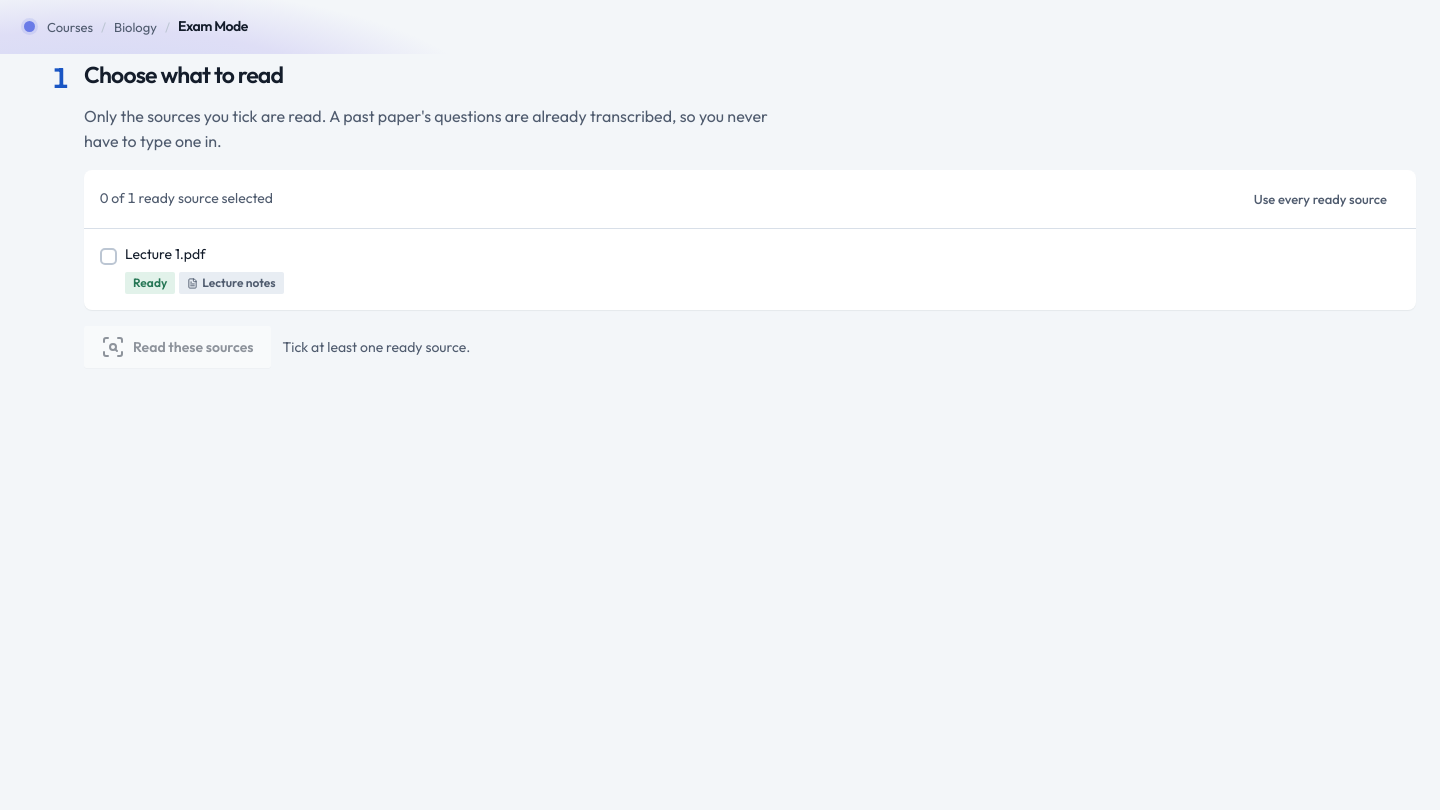
it: ExamModePage › refuses to spend credits it does not have
Check: the heading "Choose what to read" is shown, box [83,59,283,89]
Click the checkbox at (108, 256), box [100,248,117,265]
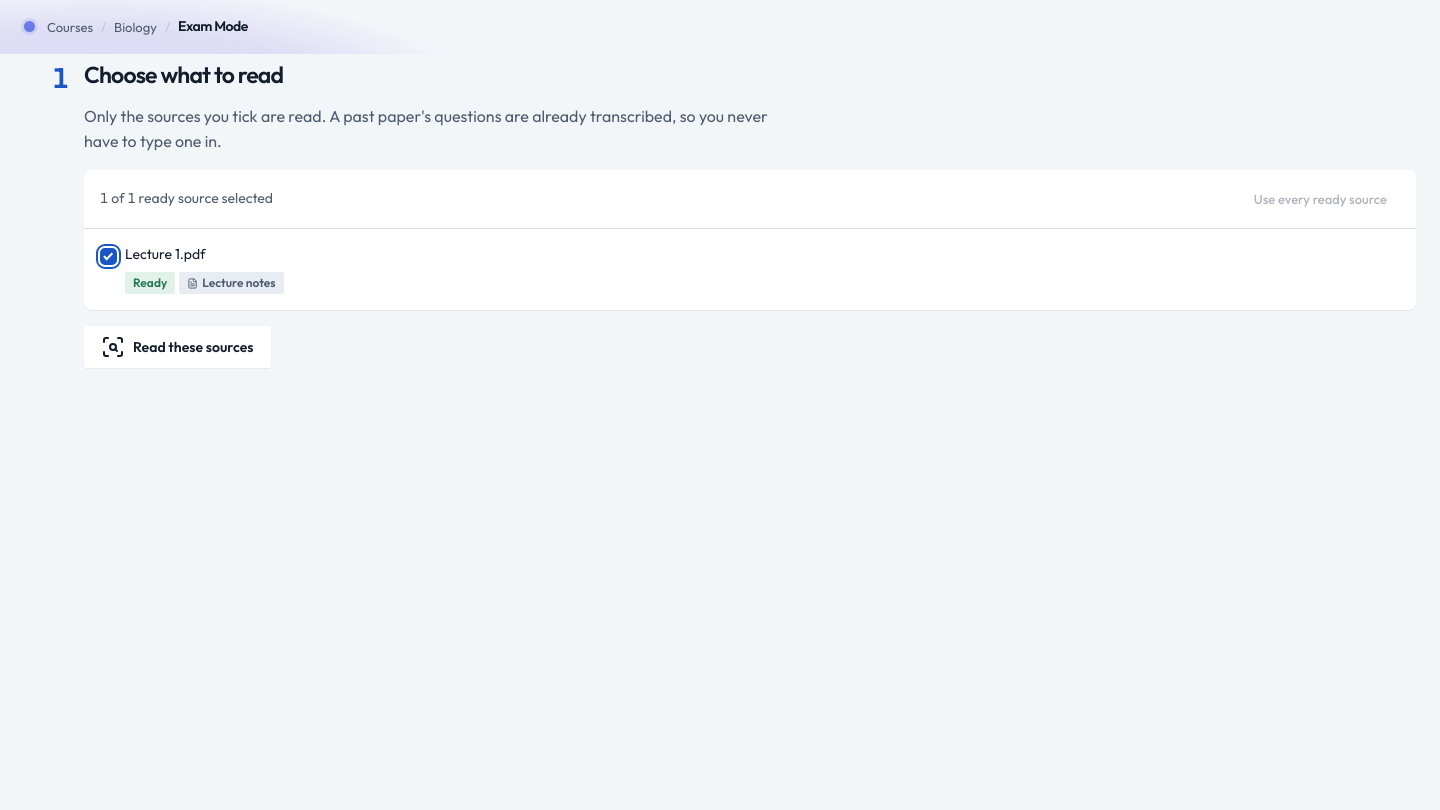
Click the button "Read these sources" at (177, 347), box [84,326,270,368]
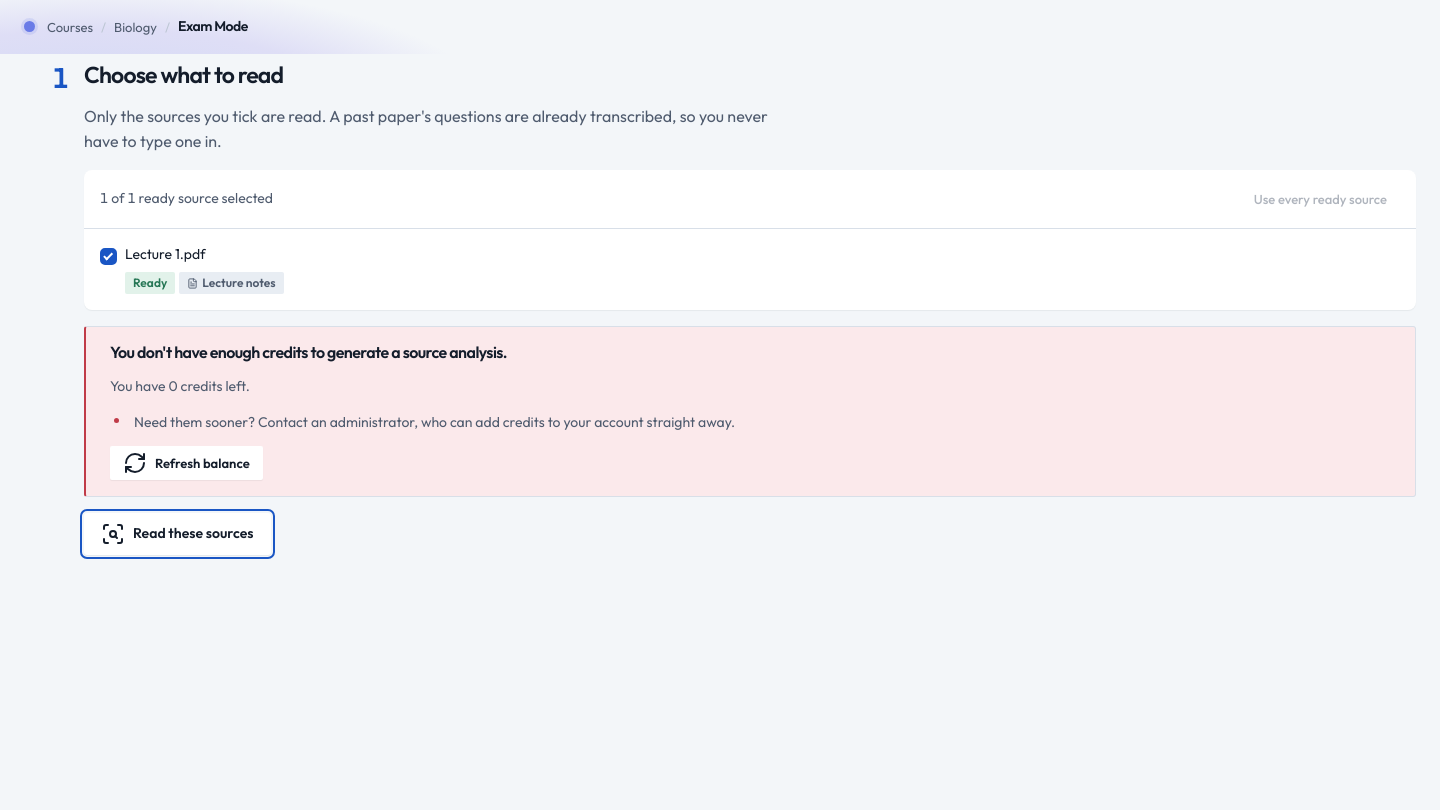
Check: the text "credit" is shown, box [110,342,391,362]
